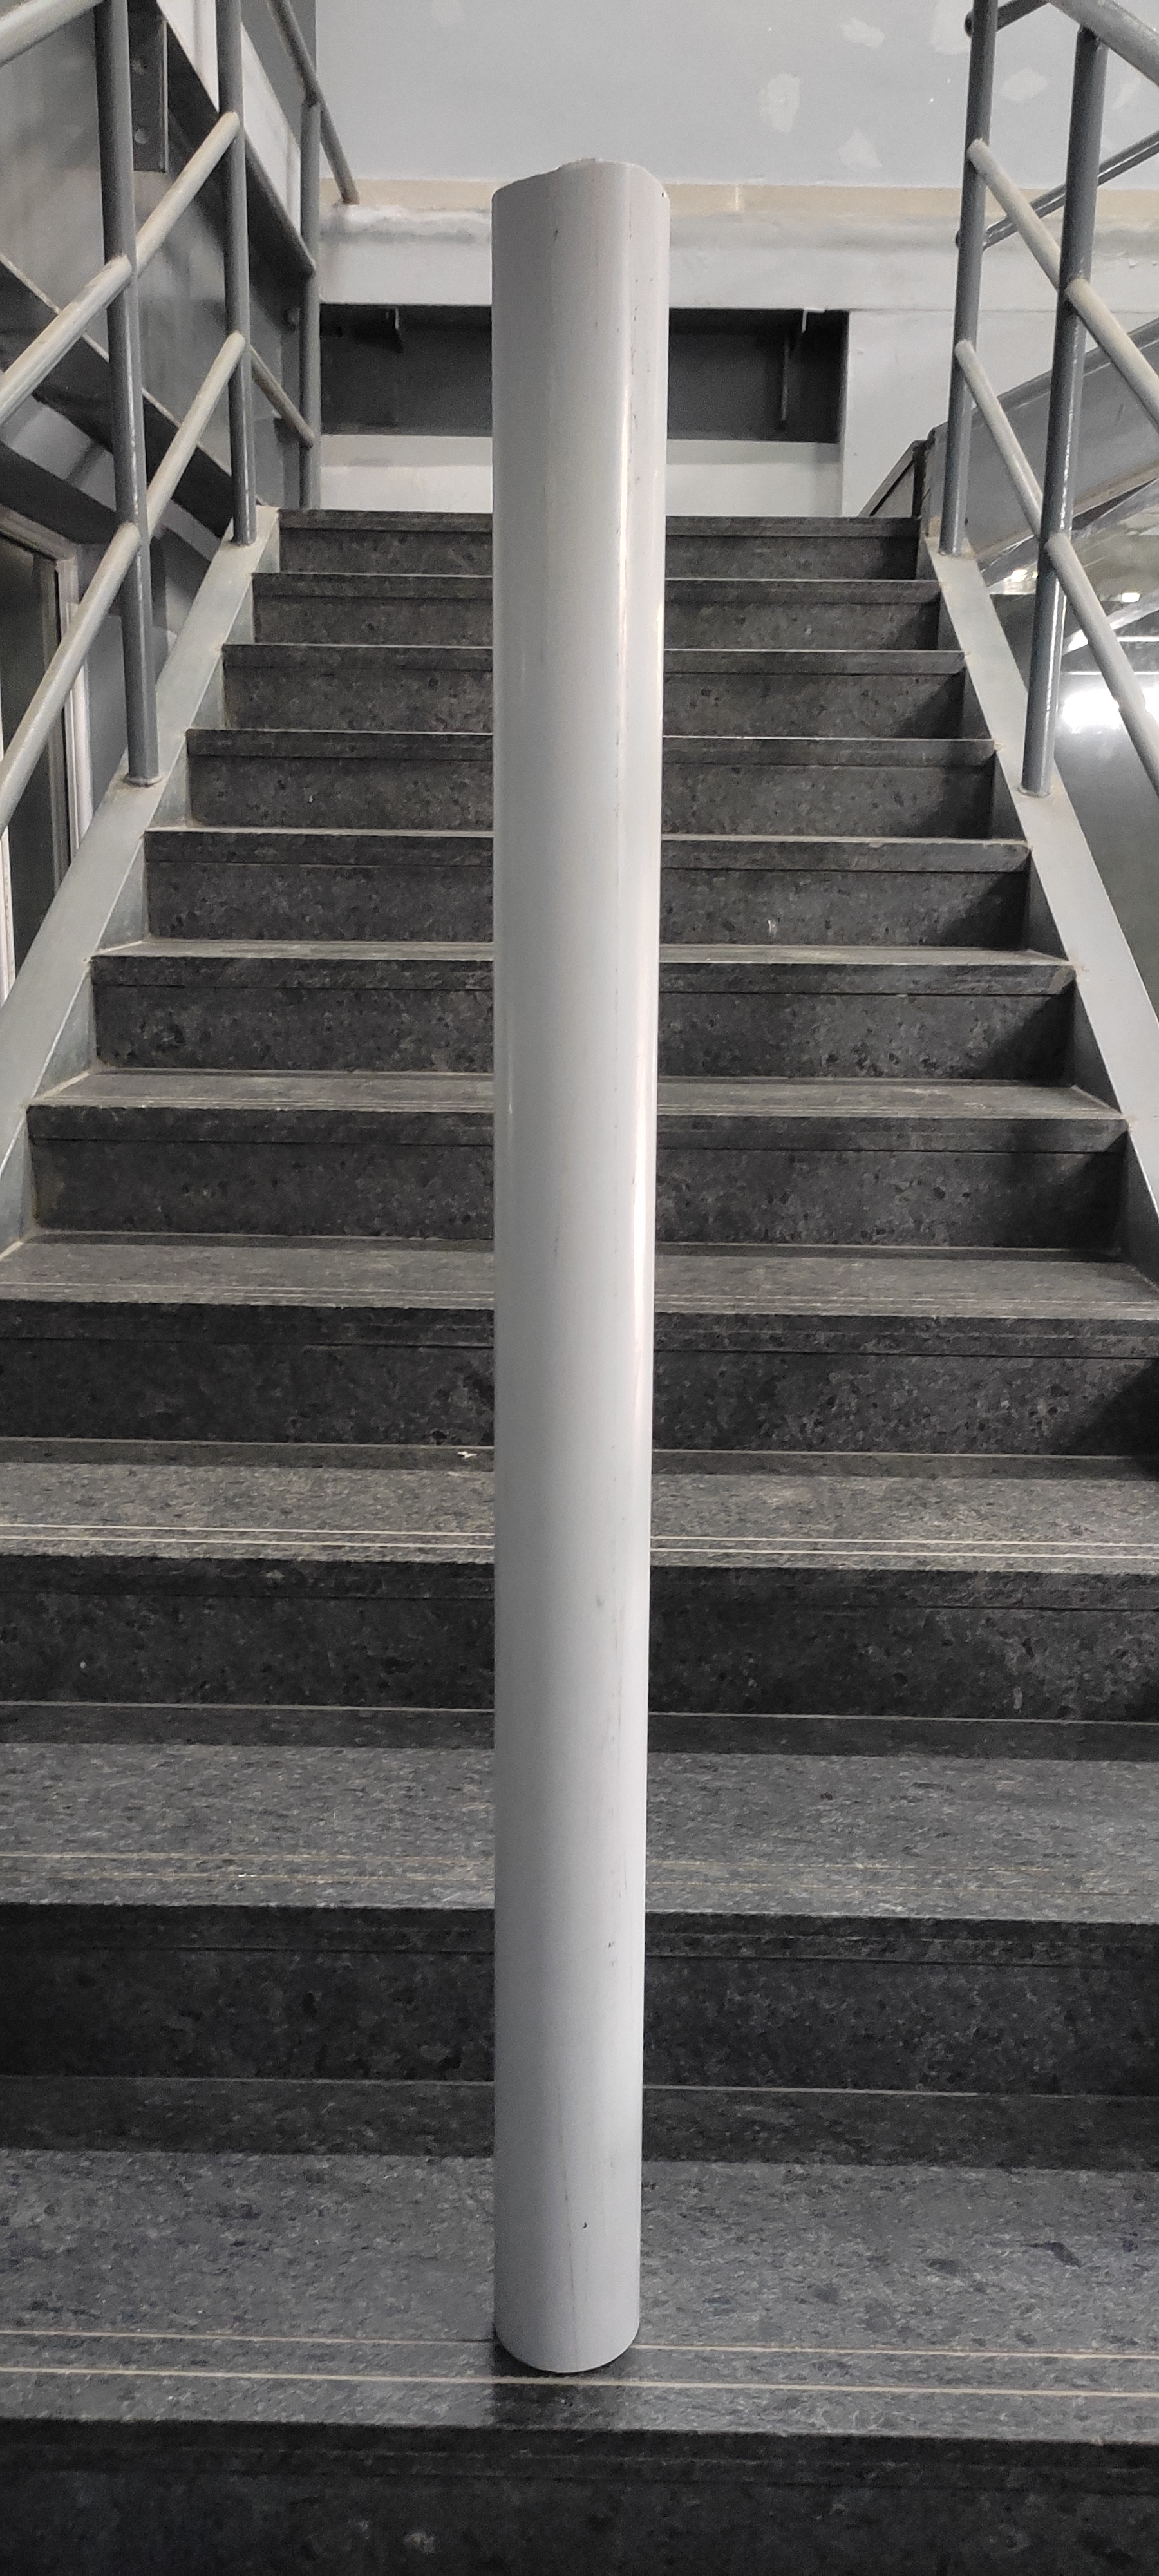pole: (470, 138, 681, 2387)
